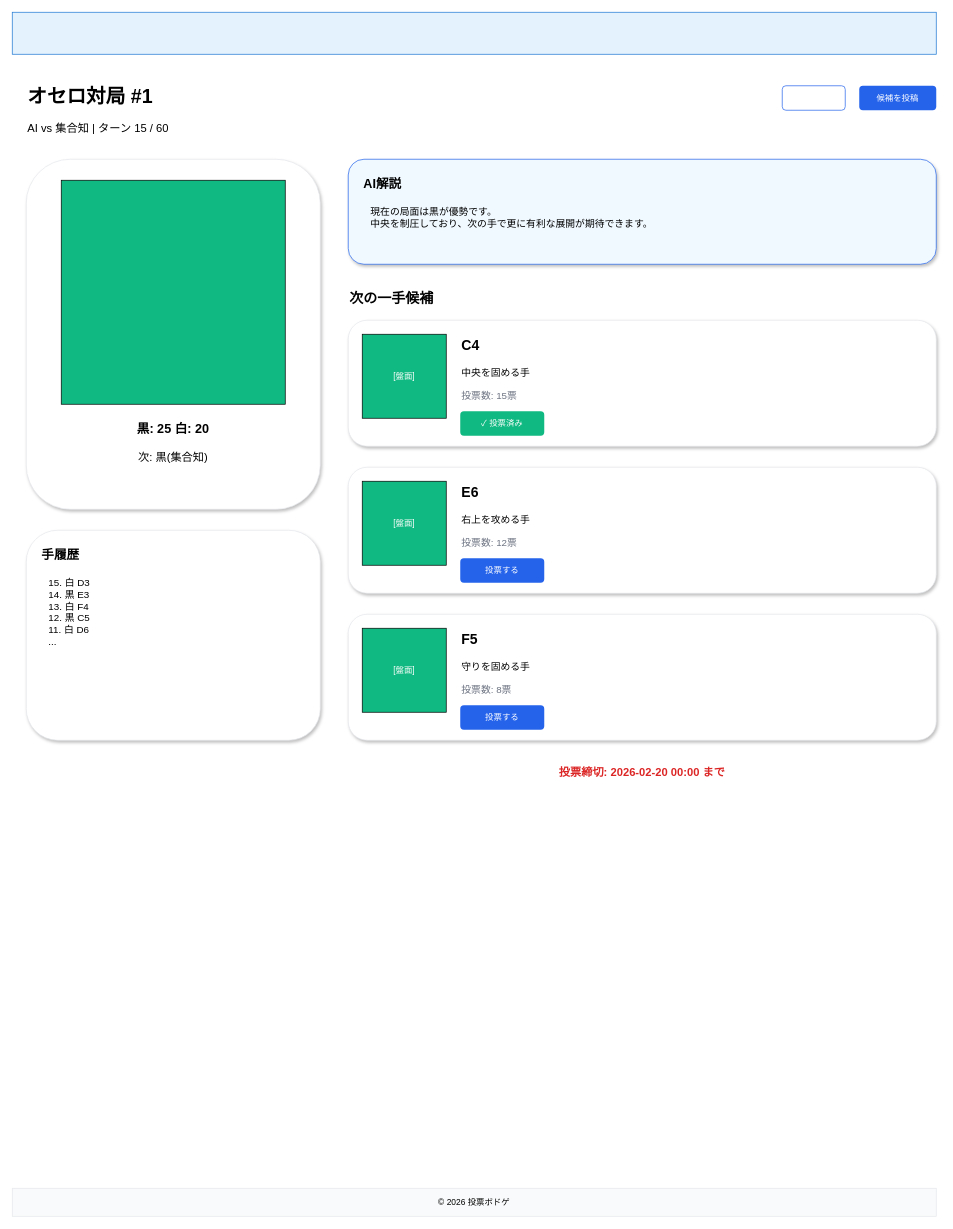
This 953x1229 diagram has some shape labels left out. Each missing label, with the centre of its shape:
[ロゴ] 投票ボドゲ: point 474,33
[盤面表示] 8x8グリッド: point 173,292
シェア: point 813,97
